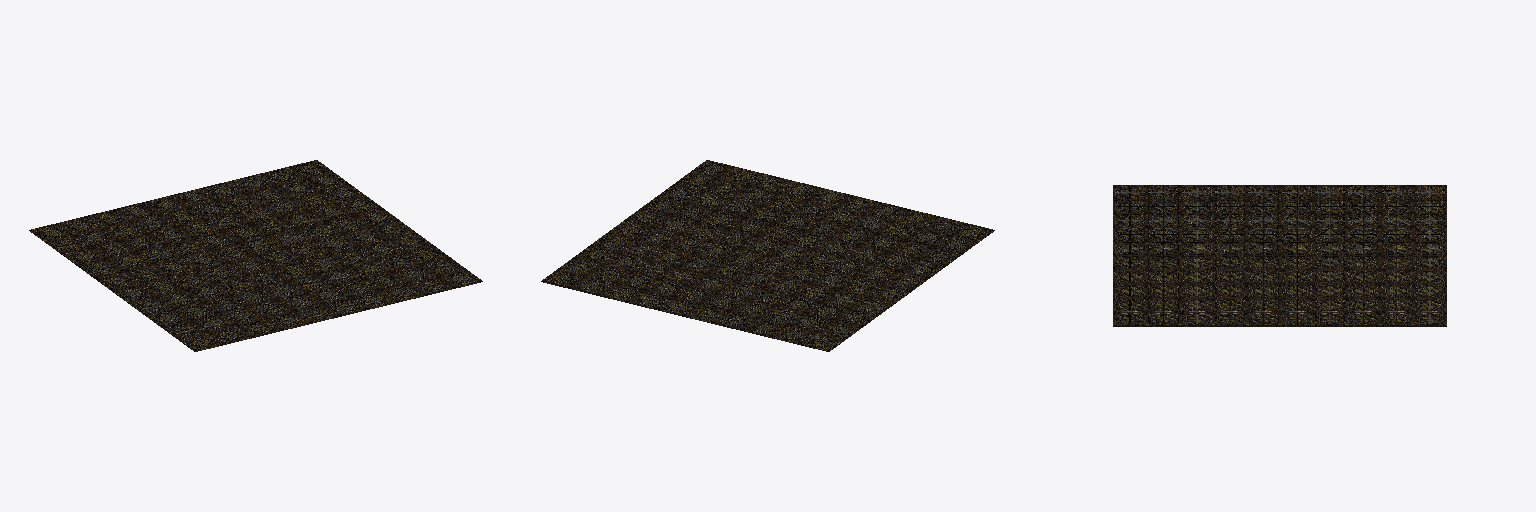
3 views of the same model, side by side, from view 1: azimuth 30°, elevation 25°; view 2: azimuth 150°, elevation 25°; view 3: azimuth 270°, elevation 25° (orthographic).
Parts seen in each view (by area): view 1: Box001; view 2: Box001; view 3: Box001.
Boxes of the visible parts, x1,y1,x2,y2 form: Box001: [29, 160, 482, 351]; Box001: [541, 160, 994, 351]; Box001: [1113, 185, 1446, 326].
Size of the model in its own units: 10 by 0.01 by 10.
1 materials, 1 textured.